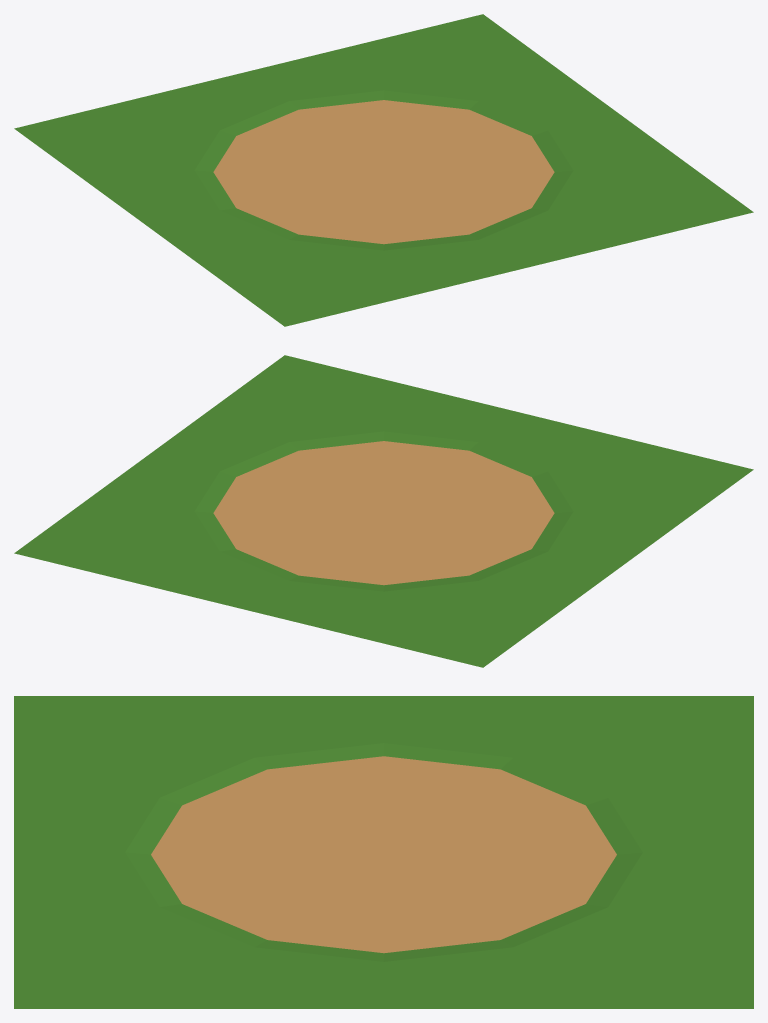
The model's file is tiles-nb_tile-golf-sand-nb.fbx.
The picture shows the model from 3 angles, top to bottom: view 1: azimuth 30°, elevation 25°; view 2: azimuth 150°, elevation 25°; view 3: azimuth 270°, elevation 25°; orthographic projection. The views are drawn at different scales.
Parts seen in each view (by area): view 1: tiles_nb_tile_golf_sand_nb; view 2: tiles_nb_tile_golf_sand_nb; view 3: tiles_nb_tile_golf_sand_nb.
Boxes of the visible parts, box(x1,y1,x2,y2) form: tiles_nb_tile_golf_sand_nb: box(14, 14, 753, 326); tiles_nb_tile_golf_sand_nb: box(14, 355, 753, 667); tiles_nb_tile_golf_sand_nb: box(14, 696, 753, 1008).
Size of the model in its own units: 200 by 0.6667 by 200.
